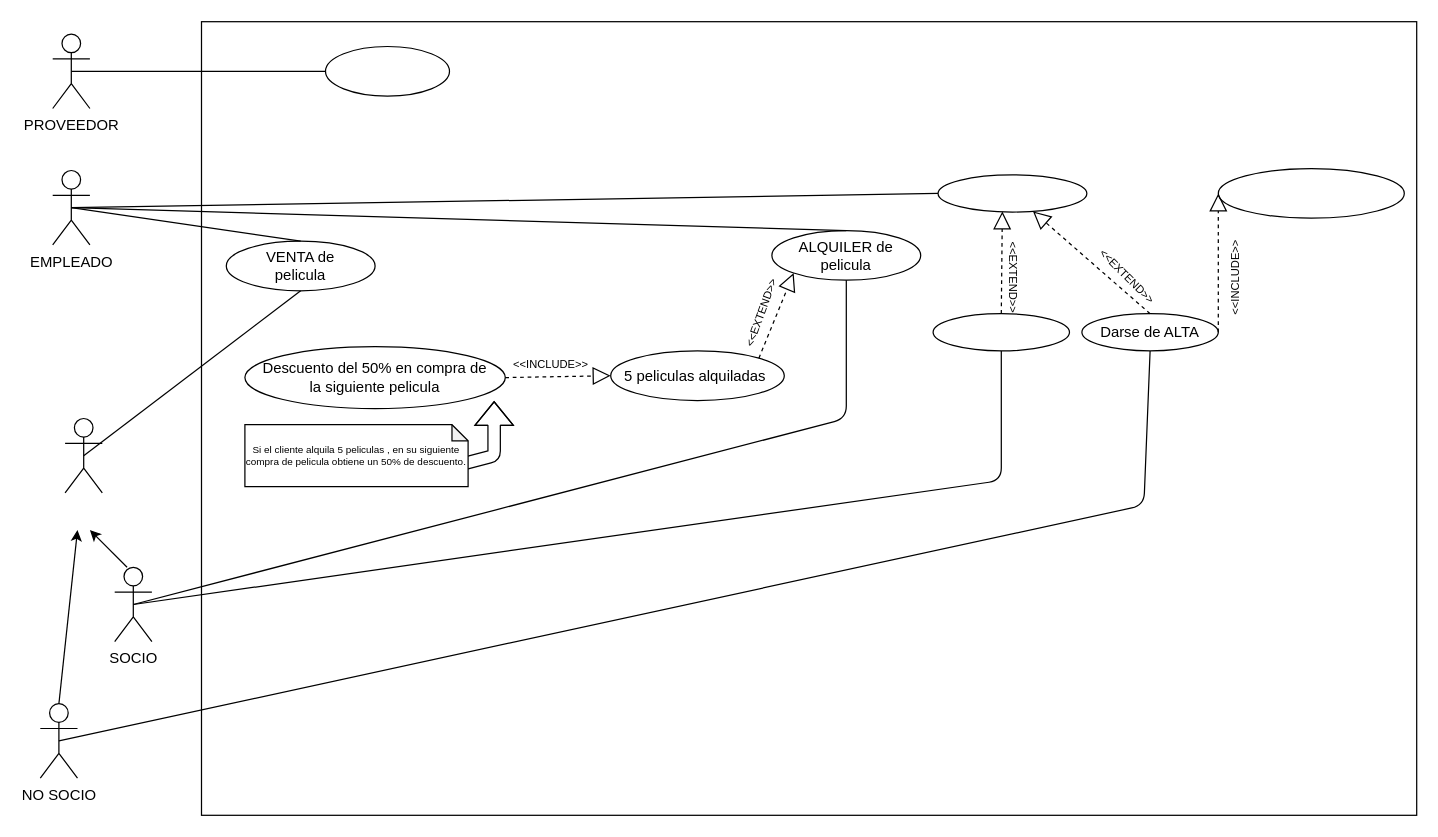
Image size: 1438x837. Some labels were removed from this diagram. The centre of each missing label's shape, as x and y in pixels:
"CLIENTE" belongs at point 83,455.
"Darse de BAJA" belongs at point 1001,331.
"Gestionar clientes" belongs at point 1012,193.
"rellenar formulario de alta" belongs at point 1310,192.
"Suministrar peliculas" belongs at point 387,70.
